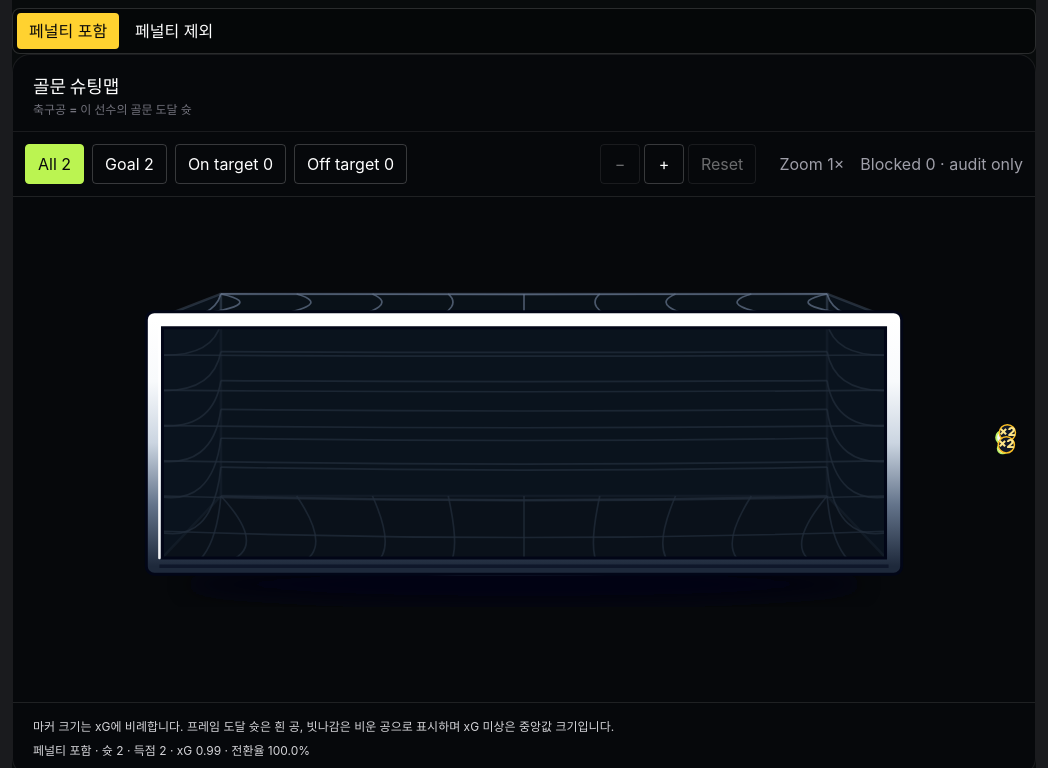
Scenario: Final Third Shot Chart › uses one penalty state for the Goal-Mouth markers and observed summary
Expected: the text "페널티 포함 · 슛 2 · 득점 2 · xG 0.99 · 전환율 100.0%" is shown, [33,743,310,758]
Click the button "페널티 제외".
click(174, 31)  # box [123,13,225,49]
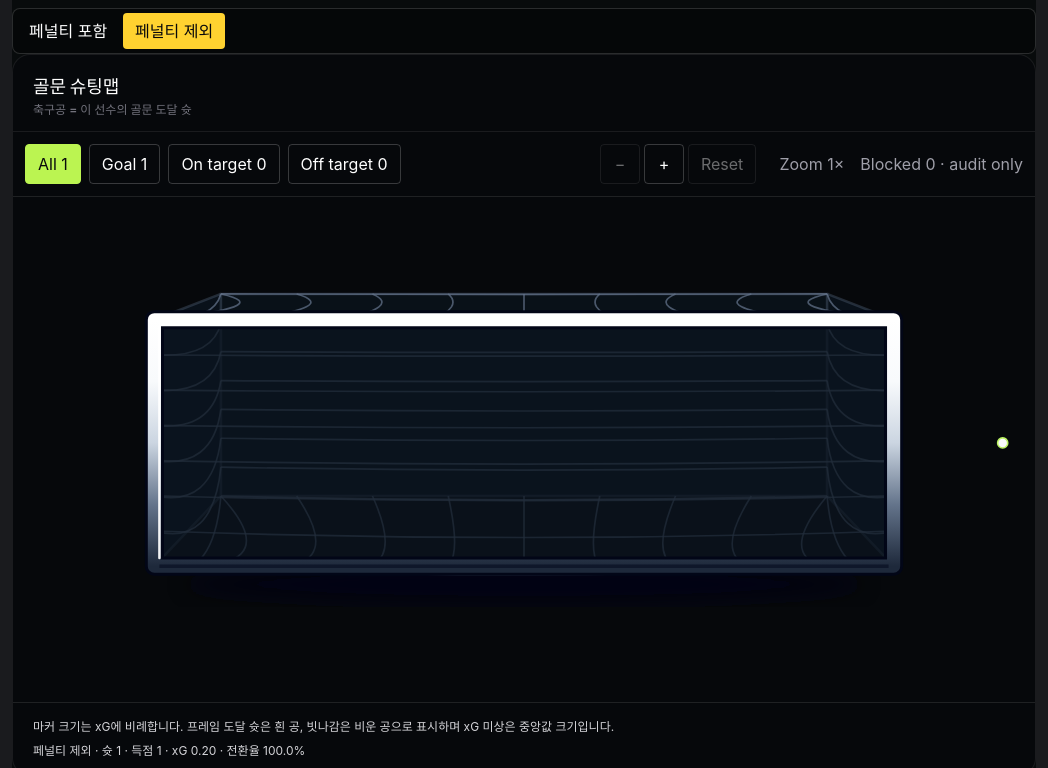
Now the text "페널티 제외 · 슛 1 · 득점 1 · xG 0.20 · 전환율 100.0%" is shown, box [33,743,305,758]
